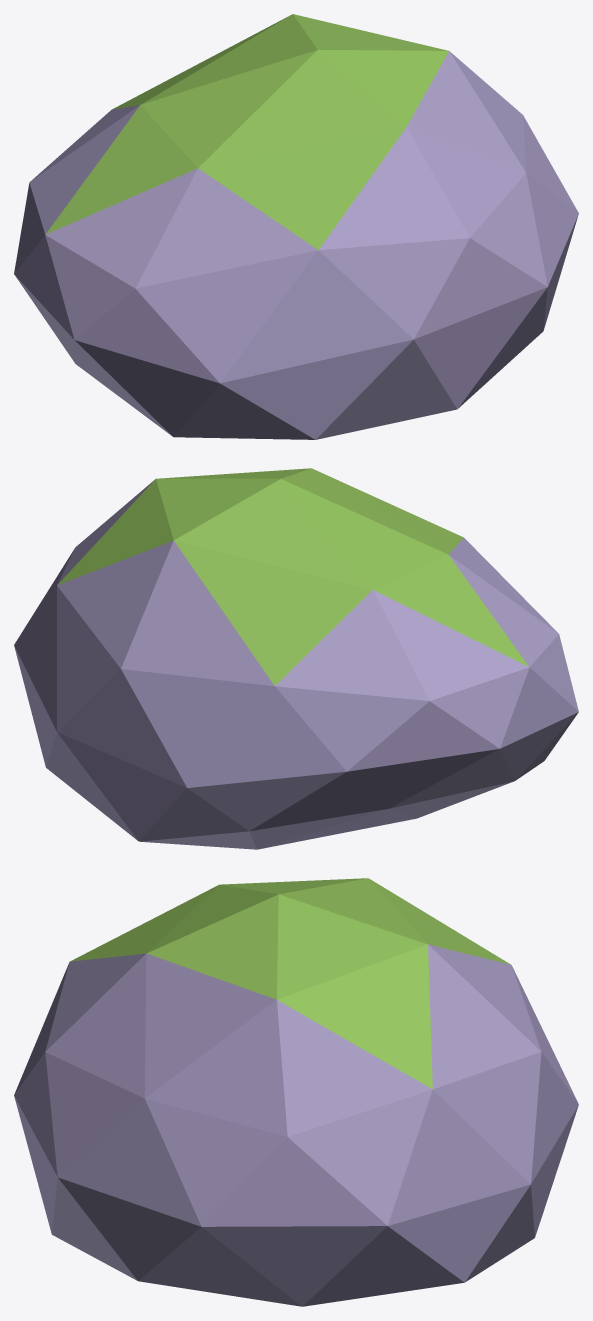
Rendered from boulder_a.glb.
3 views of the same model, one above another, from view 1: azimuth 30°, elevation 25°; view 2: azimuth 150°, elevation 25°; view 3: azimuth 270°, elevation 25° (orthographic). The views are drawn at different scales.
Visible parts, largest first — view 1: boulder_a; view 2: boulder_a; view 3: boulder_a.
Part boxes in pixels (<box>): boulder_a: <box>14,14,578,439</box>; boulder_a: <box>14,468,578,849</box>; boulder_a: <box>14,878,578,1306</box>.
Bounding box in the file's own units: 6.17 × 3.74 × 5.47.
